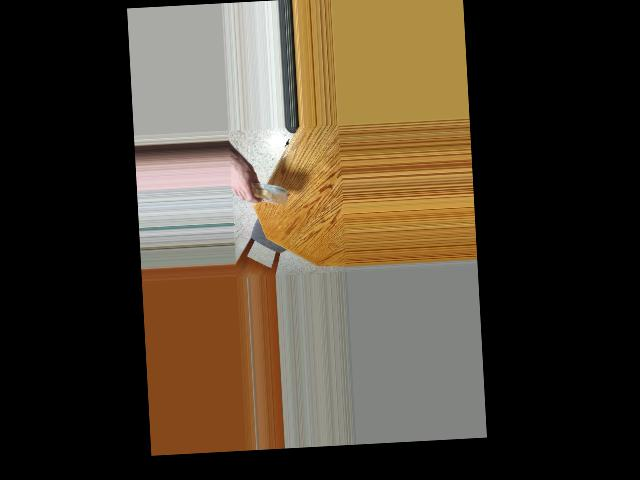cheese: (251, 174, 285, 207)
